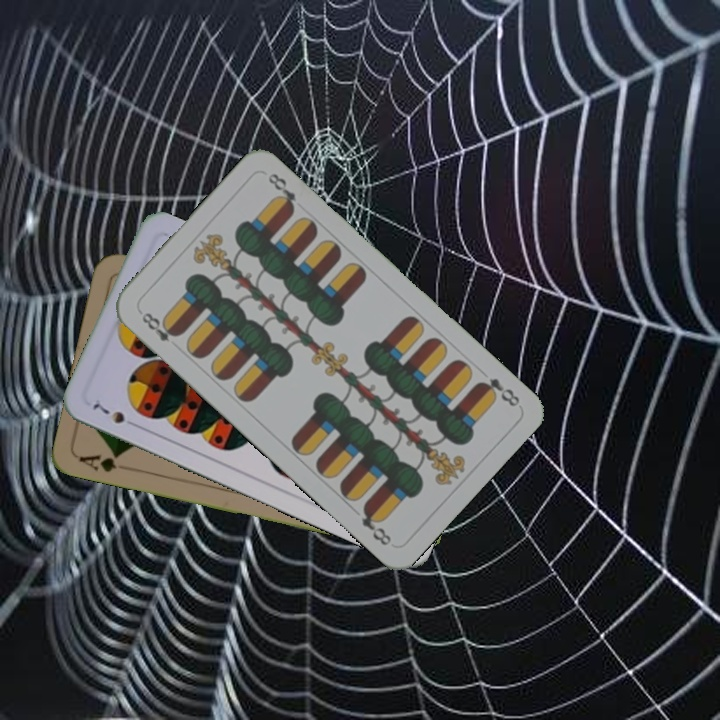E8: (135, 306, 183, 345), (473, 373, 523, 410)
GA: (75, 449, 124, 475)
S7: (89, 399, 141, 431)
